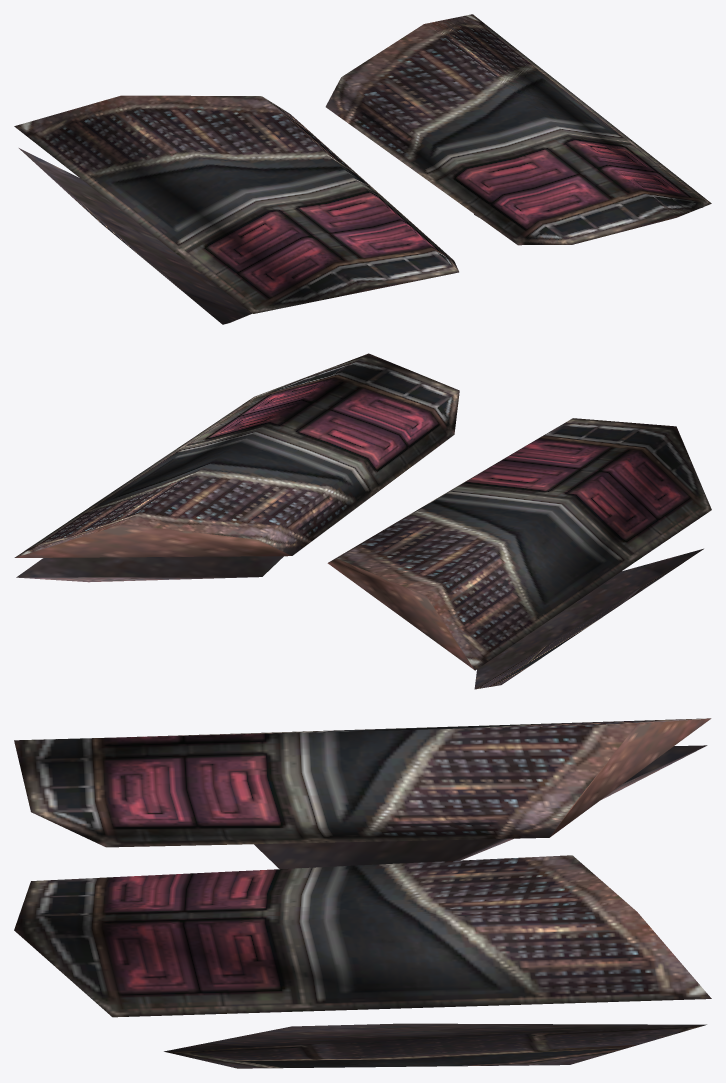
The model's file is LegPads4__BOS.glb.
3 renders of one model, top to bottom at view 1: azimuth 30°, elevation 25°; view 2: azimuth 150°, elevation 25°; view 3: azimuth 270°, elevation 25°, orthographic. The views are drawn at different scales.
Visible parts, largest first — view 1: LegPads4; view 2: LegPads4; view 3: LegPads4.
Part boxes in pixels (bbox=[...]): LegPads4: bbox=[14, 14, 711, 324]; LegPads4: bbox=[14, 353, 711, 689]; LegPads4: bbox=[14, 718, 711, 1068].
Size of the model in its own units: 21.19 by 4.76 by 21.24.
1 material, 1 textured.
